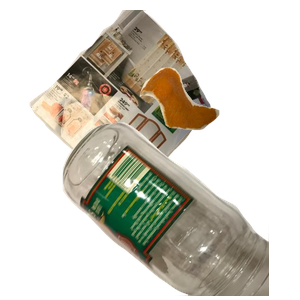glass: (60, 120, 300, 300)
paper: (27, 10, 230, 190)
plastic: (110, 164, 300, 300)
trash: (137, 65, 300, 188)
